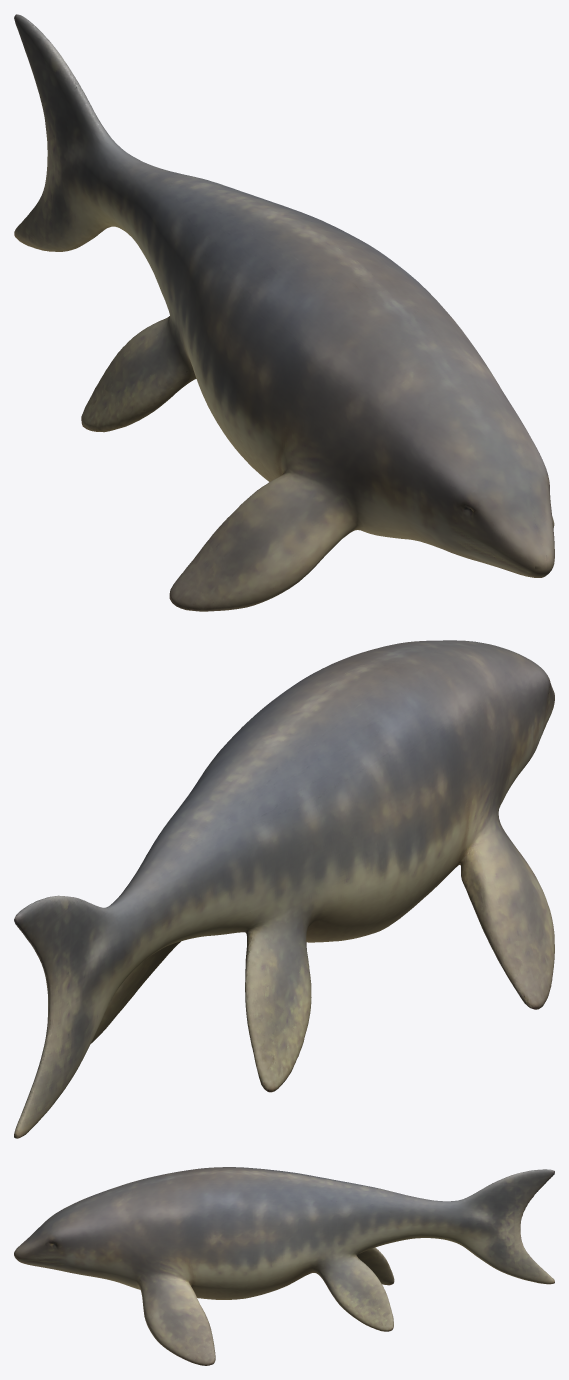
The picture shows the model from 3 angles, top to bottom: view 1: azimuth 30°, elevation 25°; view 2: azimuth 150°, elevation 25°; view 3: azimuth 270°, elevation 25°; orthographic projection. The views are drawn at different scales.
Parts seen in each view (by area): view 1: world; view 2: world; view 3: world.
Boxes of the visible parts, x1=… form: world: x1=14, y1=14, x2=554, y2=611; world: x1=14, y1=640, x2=554, y2=1138; world: x1=14, y1=1167, x2=554, y2=1365.
Size of the model in its own units: 5.58 by 4.34 by 14.
1 material, 1 textured.
